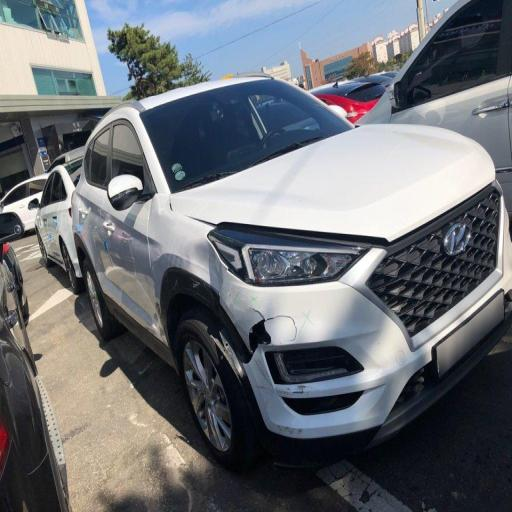broken: (232, 303, 310, 385)
dent: (146, 228, 243, 318)
